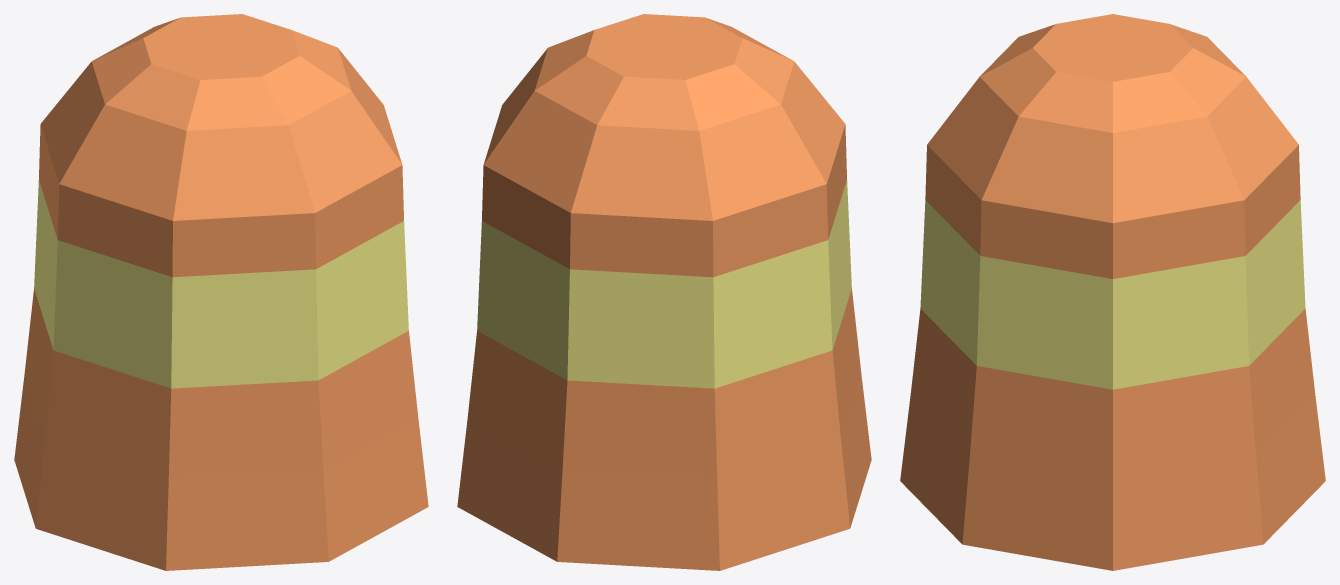
Rendered from projectileBullet.fbx.
3 views of the same model, side by side, from view 1: azimuth 30°, elevation 25°; view 2: azimuth 150°, elevation 25°; view 3: azimuth 270°, elevation 25° (orthographic).
Visible parts, largest first — view 1: Cylinder; view 2: Cylinder; view 3: Cylinder.
Boxes of the visible parts, x1,y1,x2,y2 form: Cylinder: (14,14,428,570); Cylinder: (457,14,871,570); Cylinder: (900,14,1325,570).
Size of the model in its own units: 228 by 256 by 228.
